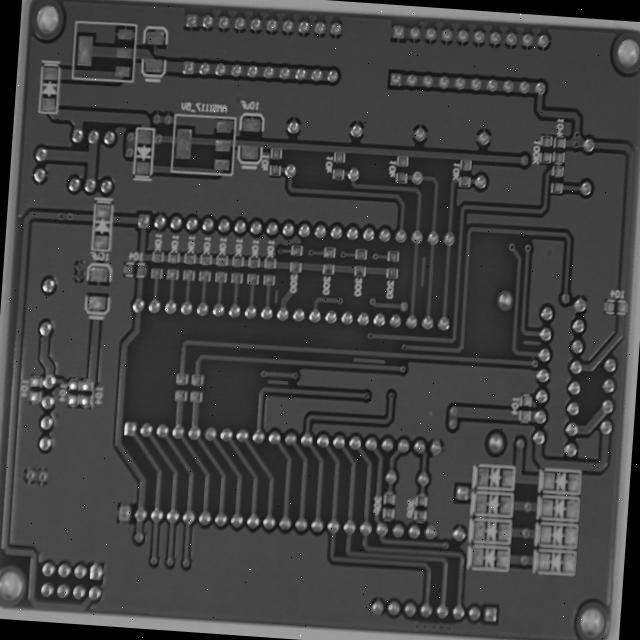spurious_copper: (389, 295, 435, 324), (294, 323, 330, 350), (463, 183, 483, 227), (579, 276, 608, 298), (301, 223, 318, 248)
